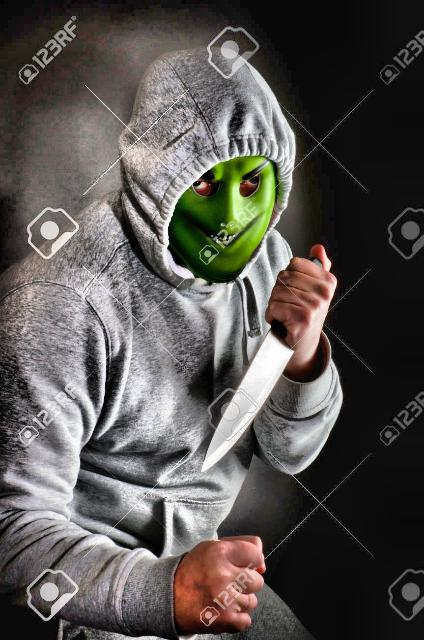knife: (196, 271, 340, 484)
